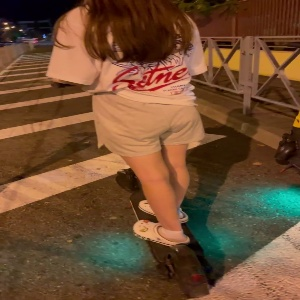human on a scooter: (45, 1, 213, 297)
